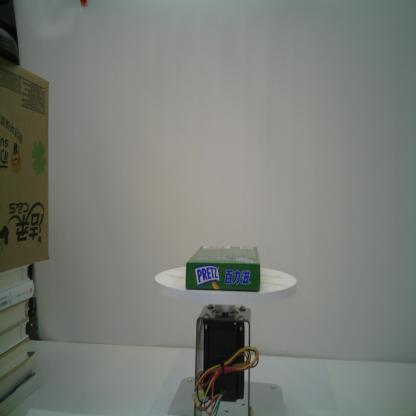Dessert: (186, 245, 260, 292)
